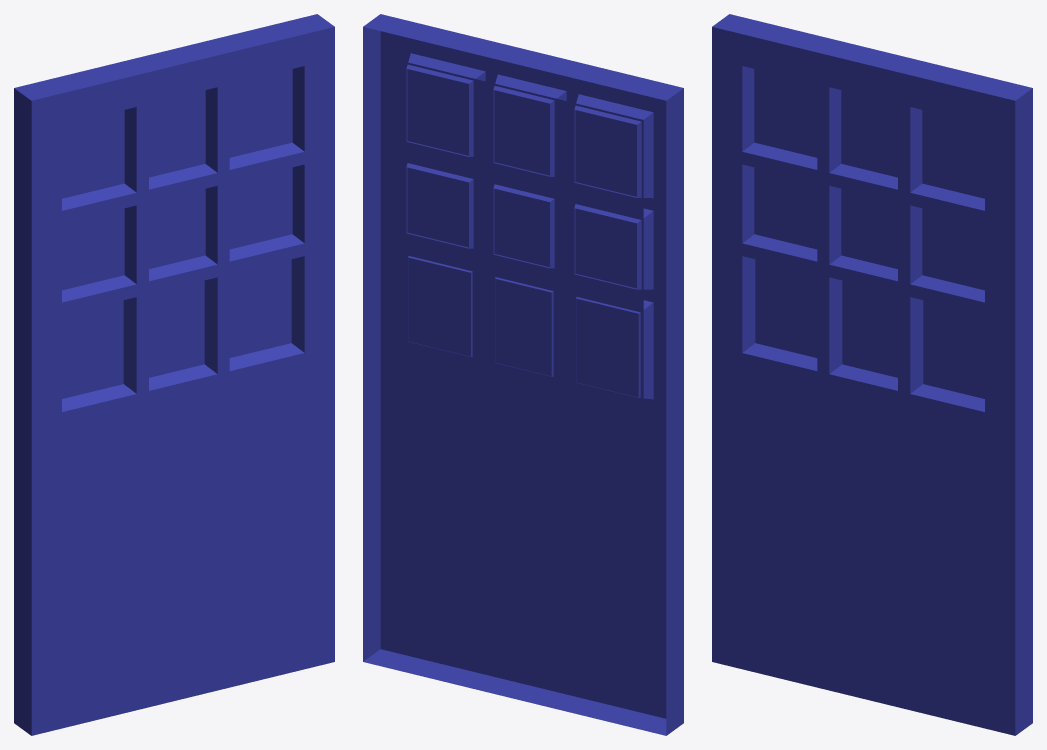
The model's file is doorFrench.FBX.
3 views of the same model, side by side, from view 1: azimuth 30°, elevation 25°; view 2: azimuth 150°, elevation 25°; view 3: azimuth 330°, elevation 25° (orthographic).
Visible parts, largest first — view 1: doorframe, glass; view 2: doorframe, glass; view 3: doorframe, glass.
Part boxes in pixels (box(x1,y1,x2,y2)): doorframe: box(14, 14, 334, 735); glass: box(62, 69, 292, 398); doorframe: box(363, 14, 683, 735); glass: box(406, 62, 643, 399); doorframe: box(712, 14, 1032, 735); glass: box(754, 69, 984, 398).
Size of the model in its own units: 2 by 4 by 0.2.
